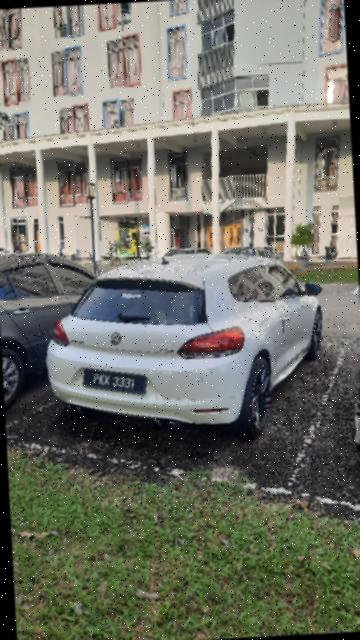License_Plate: (81, 362, 153, 402)
car: (44, 242, 336, 449), (1, 239, 115, 411)
